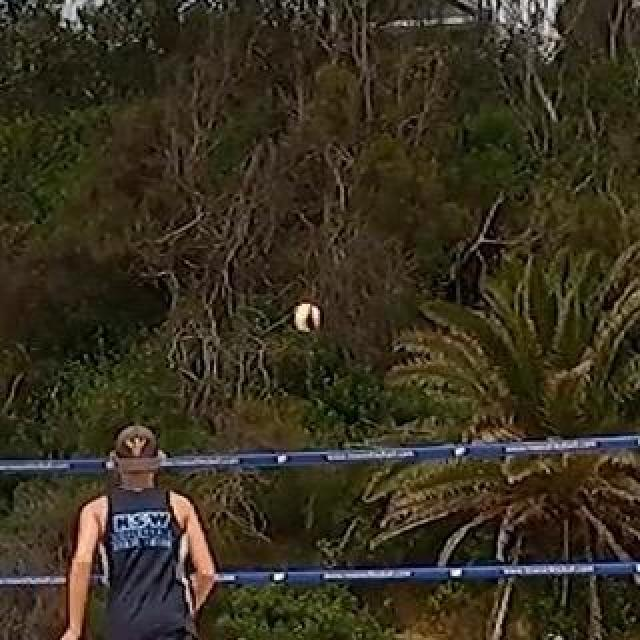volleyball: (287, 302, 321, 330)
